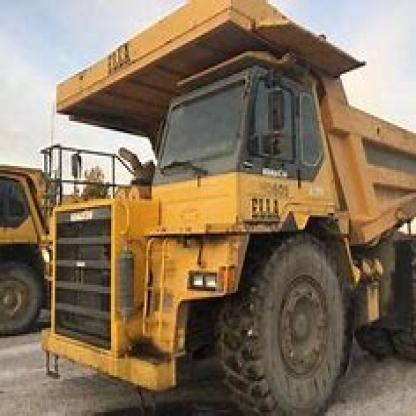dump_truck: (28, 2, 414, 402)
